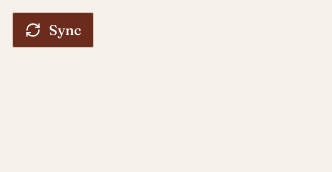
Test: SyncButton › success state › shows success state with item count after ORCID sync
Click the button.
click(53, 30)  # box [12,12,94,48]
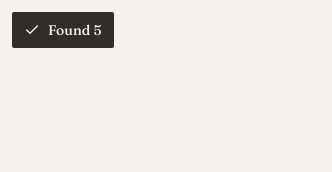
Expected: the button "Found 5" is shown, [12,12,114,48]
